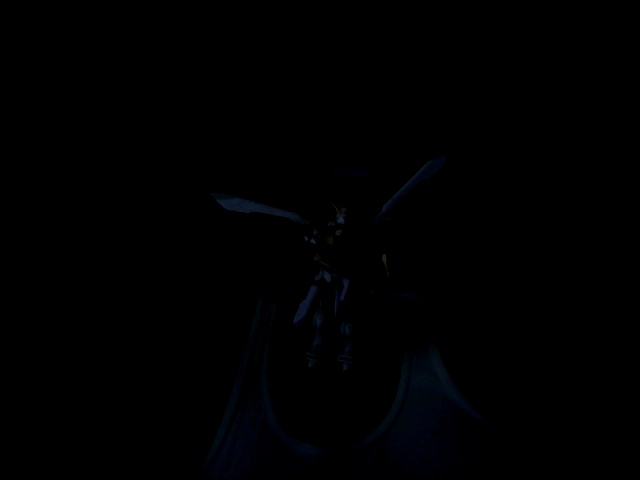God: (214, 162, 453, 387)
